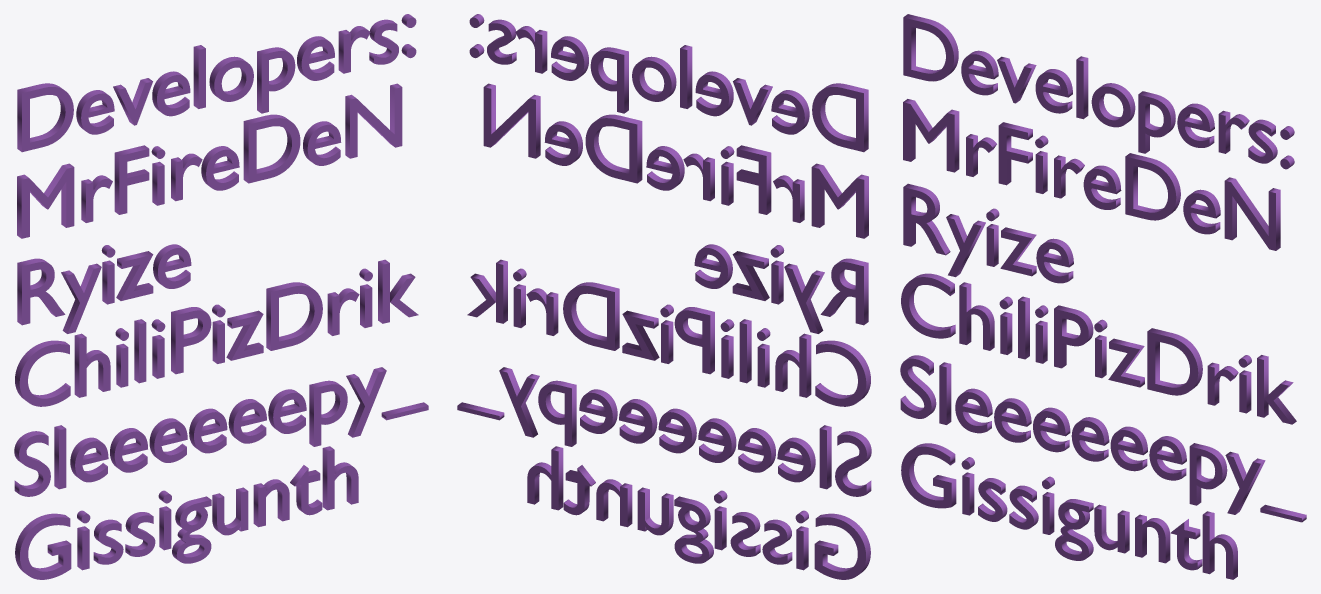
The model's file is developers.fbx.
The picture shows the model from 3 angles, left to right: view 1: azimuth 30°, elevation 25°; view 2: azimuth 150°, elevation 25°; view 3: azimuth 330°, elevation 25°; orthographic projection. The views are drawn at different scales.
Parts seen in each view (by area): view 1: Text; view 2: Text; view 3: Text.
Part boxes in pixels (box(x1,y1,x2,y2)): Text: box(14, 14, 428, 579); Text: box(457, 14, 871, 579); Text: box(900, 14, 1306, 579).
Size of the model in its own units: 496 by 591 by 10.
